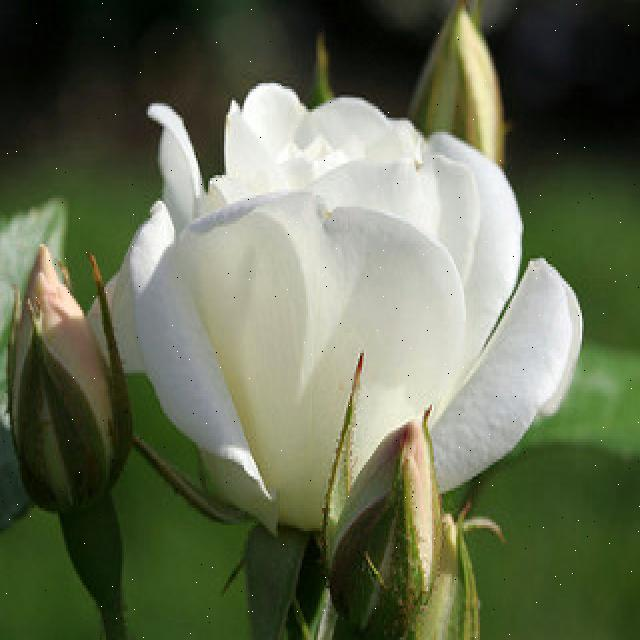Bloomed: (106, 78, 584, 540)
